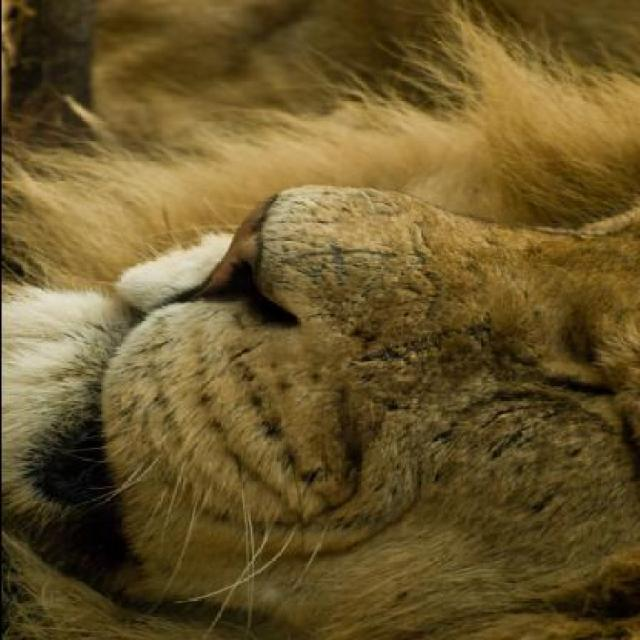Lion: (1, 7, 628, 638)
